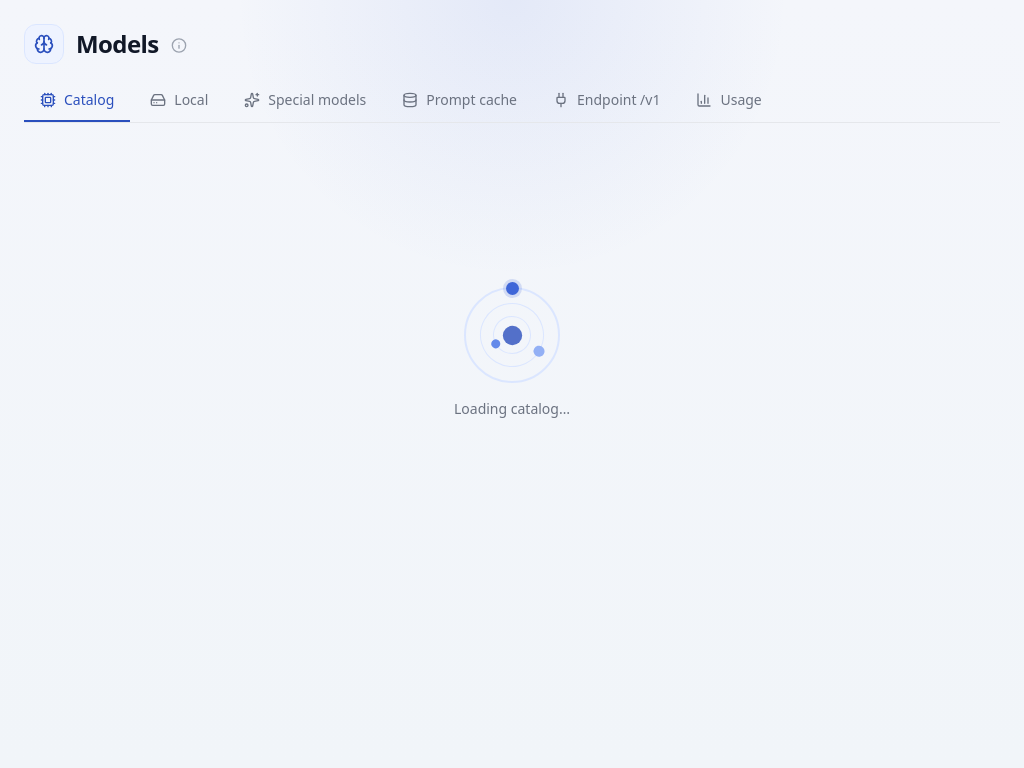
Test: Models, Local tab › folds the downloads to a header with how many run and one bar
This screenshot has width=1024, height=768.
Click the button "Local" at (179, 101), box [134,80,224,122]
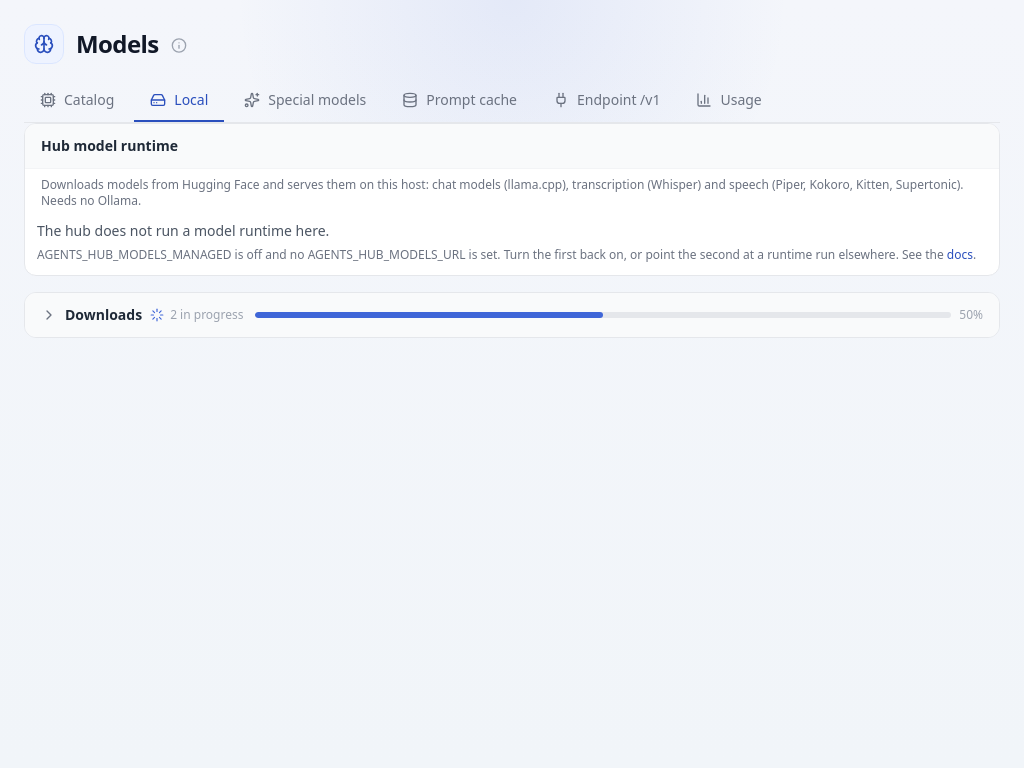
Check: the text "Hub model runtime" is shown, box [41,136,178,156]
Check: the text "Downloads" is shown, box [65,305,142,325]
Check: the text "2 in progress" is shown, box [150,307,243,323]
Click the button with test id "local-jobs-toggle" at (512, 315), box [25,293,999,337]
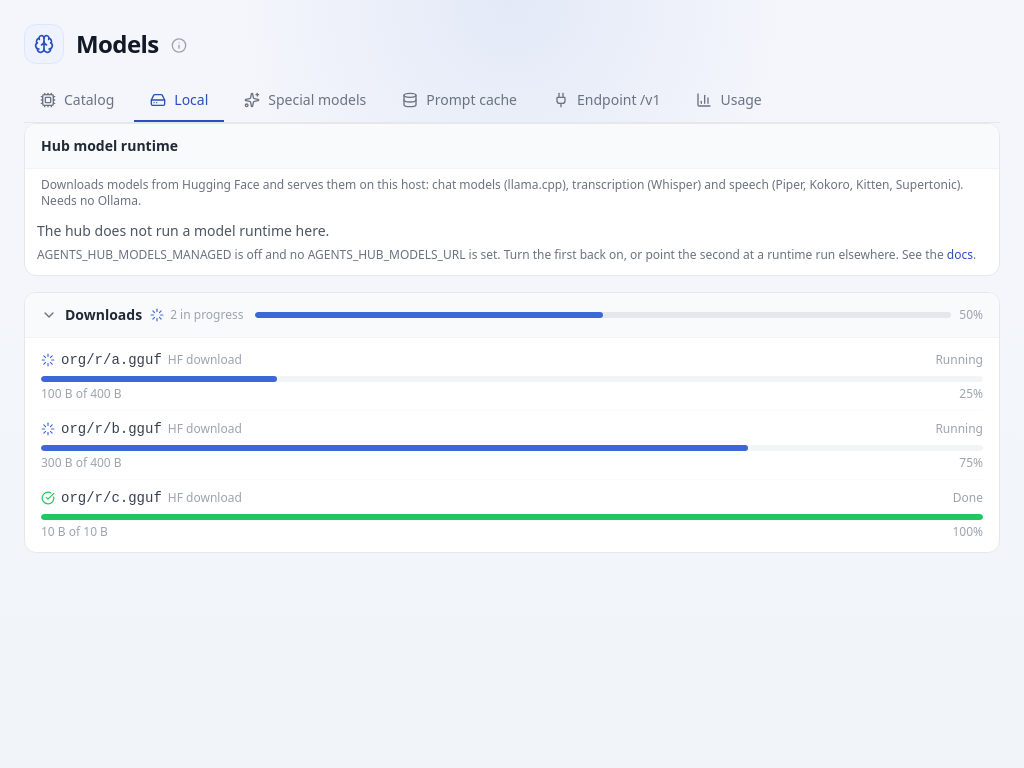
Check: the text "org/r/a.gguf" is shown, box [61,350,162,370]
